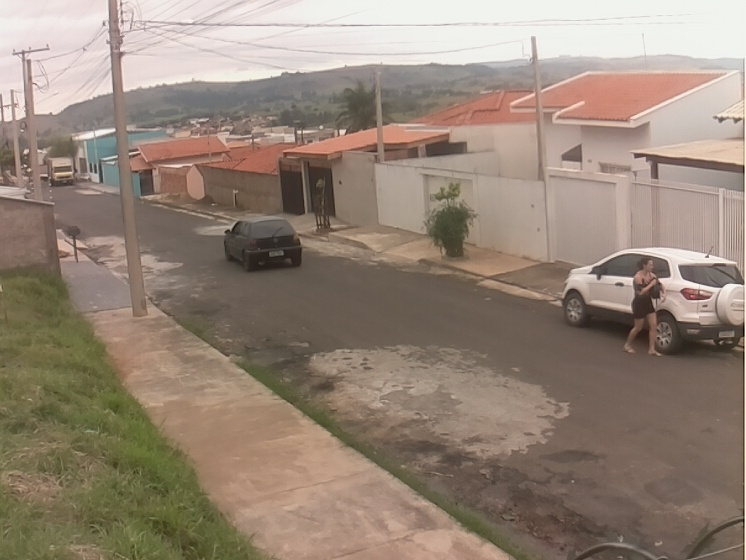person: (623, 255, 664, 358)
